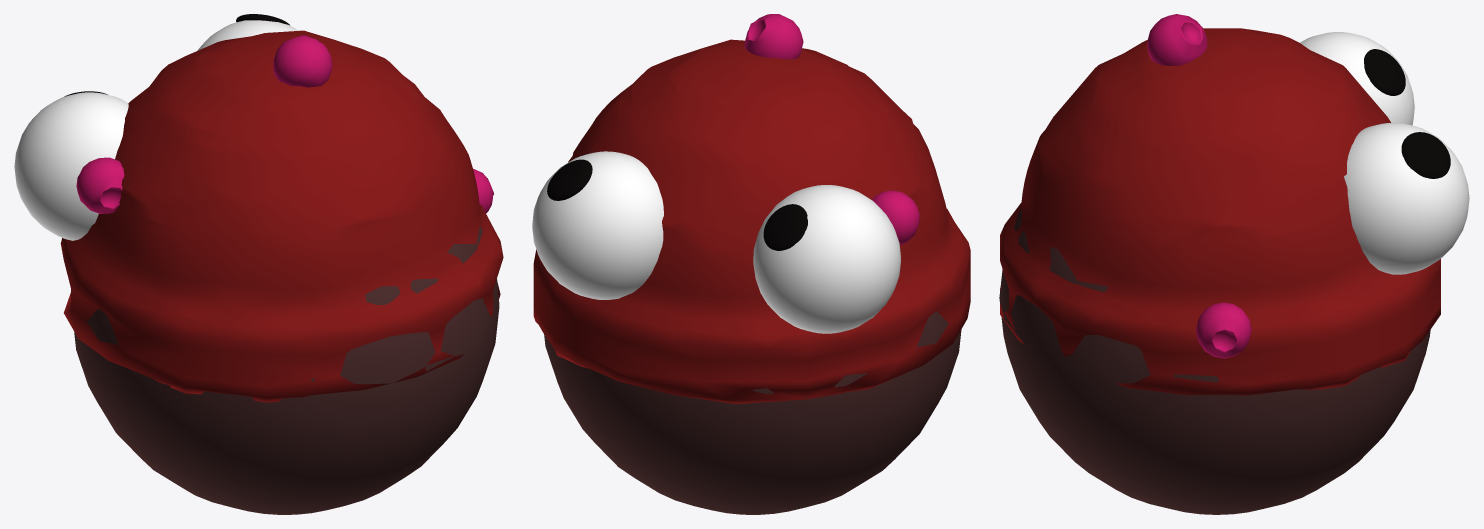
The model's file is Turret.fbx.
The picture shows the model from 3 angles, left to right: view 1: azimuth 30°, elevation 25°; view 2: azimuth 150°, elevation 25°; view 3: azimuth 270°, elevation 25°; orthographic projection. The views are drawn at different scales.
Parts seen in each view (by area): view 1: 柱体.004, 球体.009, 球体.006, desirefx.me_058.001, desirefx.me_1418.001, 球体.008; view 2: 柱体.004, 球体.009, 球体.006, 球体.008, desirefx.me_058.001, 球体.007, desirefx.me_1418.001, 球体.005; view 3: 柱体.004, 球体.009, 球体.008, 球体.006, desirefx.me_058.001, desirefx.me_161.001, 球体.005, 球体.007.
Boxes of the visible parts, x1,y1,x2,y2 form: 柱体.004: (60, 30, 503, 402); 球体.009: (70, 226, 499, 514); 球体.006: (14, 92, 128, 240); desirefx.me_058.001: (273, 35, 332, 87); desirefx.me_1418.001: (76, 157, 124, 213); 球体.008: (197, 20, 298, 50); 柱体.004: (533, 39, 970, 404); 球体.009: (544, 311, 961, 514); 球体.006: (753, 185, 900, 333); 球体.008: (532, 151, 663, 299); desirefx.me_058.001: (744, 14, 803, 59); 球体.007: (763, 204, 807, 250); desirefx.me_1418.001: (872, 190, 919, 244); 球体.005: (547, 159, 592, 200); 柱体.004: (1000, 28, 1440, 395); 球体.009: (999, 208, 1430, 514); 球体.008: (1344, 123, 1469, 274); 球体.006: (1300, 32, 1414, 125); desirefx.me_058.001: (1147, 14, 1207, 65); desirefx.me_161.001: (1195, 302, 1251, 358); 球体.005: (1401, 132, 1450, 178); 球体.007: (1364, 49, 1405, 95).
Bounding box in the file's own units: 365 × 404 × 361.
